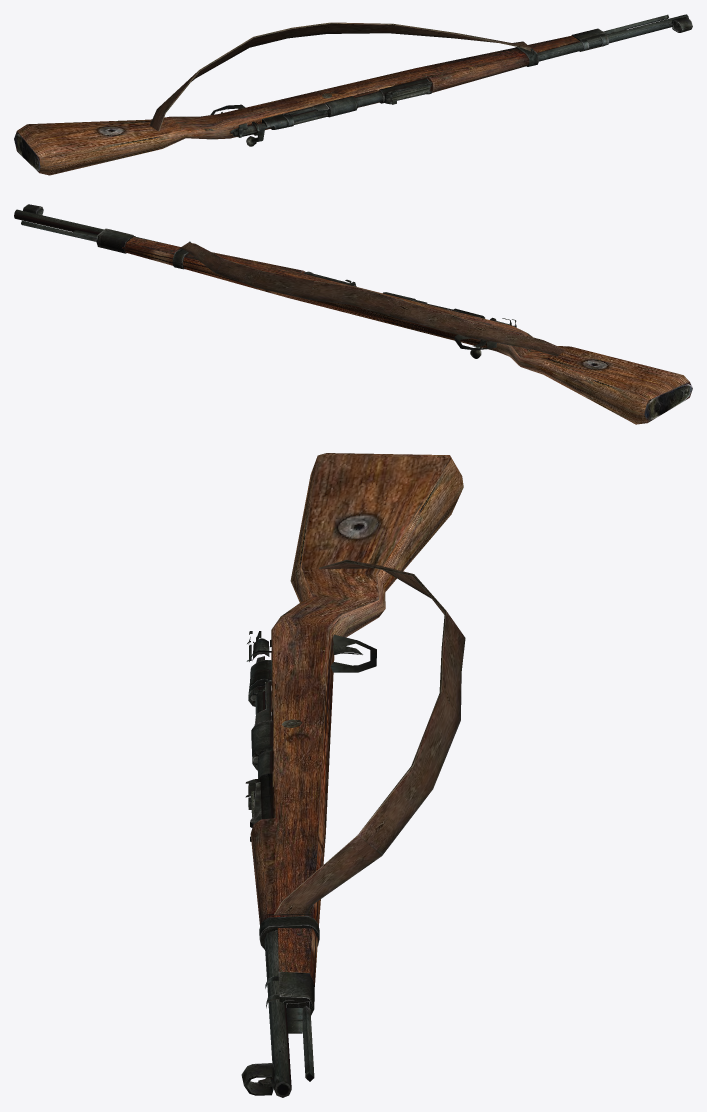
Rendered from weapon_kar98.glb.
3 renders of one model, top to bottom at view 1: azimuth 30°, elevation 25°; view 2: azimuth 150°, elevation 25°; view 3: azimuth 270°, elevation 25°, orthographic. The views are drawn at different scales.
Bounding box in the file's own units: 50.71 × 5.61 × 7.72.
1 material, 1 textured.
